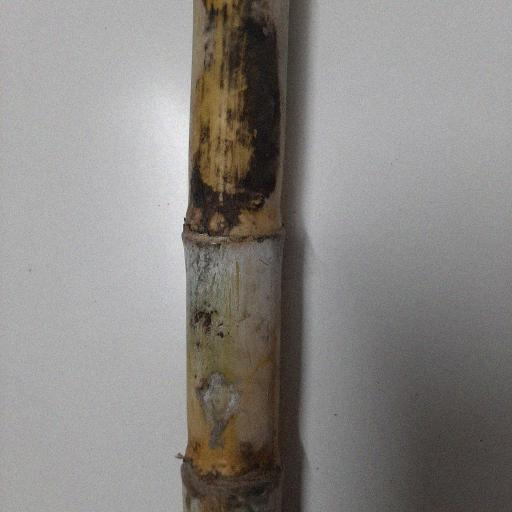Bud: (206, 211, 227, 236)
